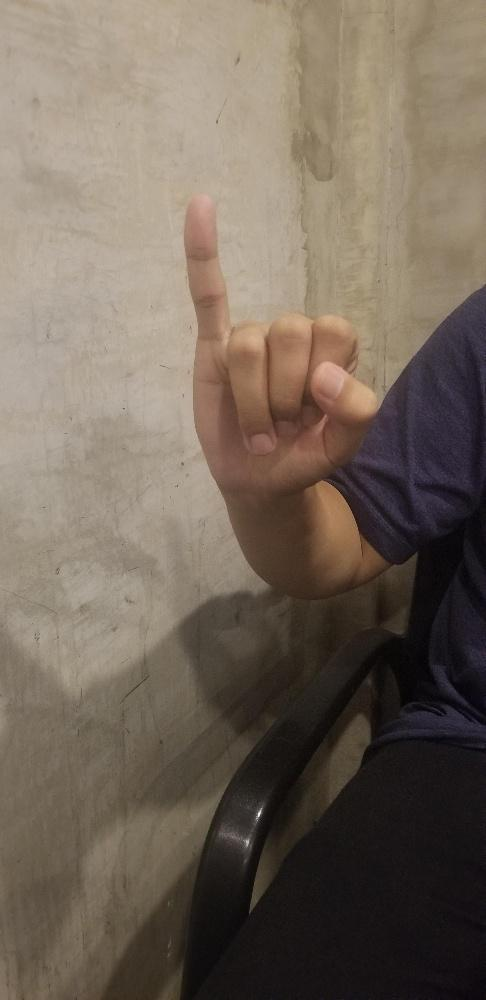i: (183, 193, 379, 499)
